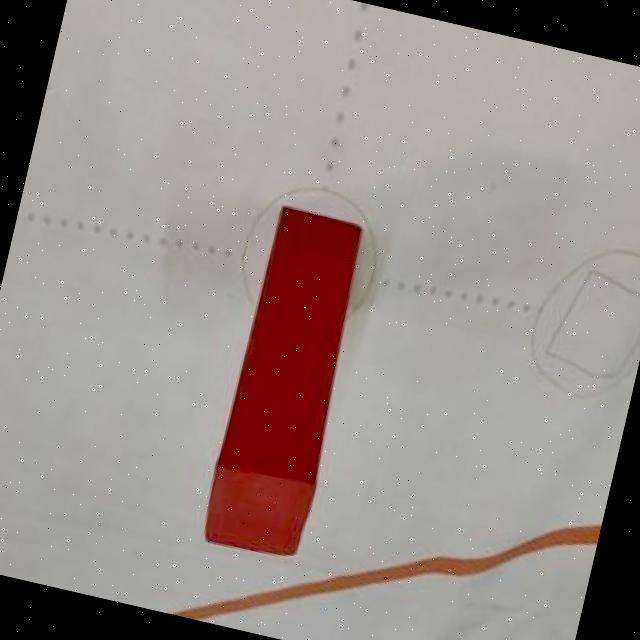redbox: (198, 200, 368, 558)
